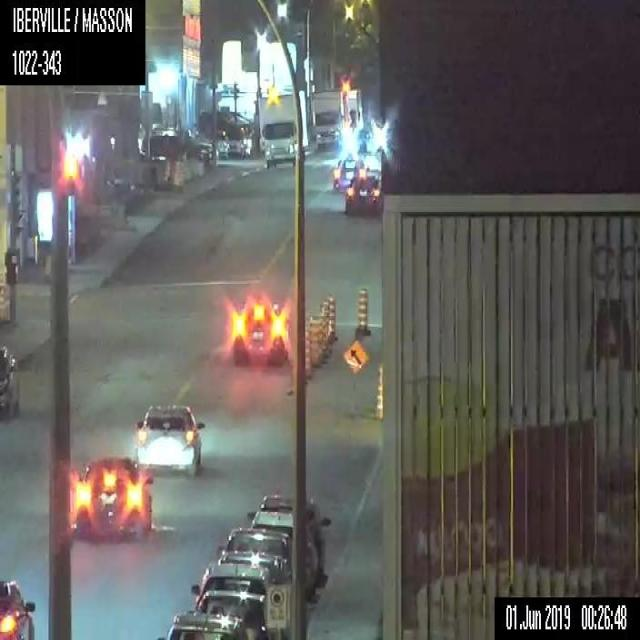construction: (341, 338, 366, 410), (352, 282, 372, 336), (308, 316, 320, 370), (374, 362, 384, 418), (172, 156, 188, 190), (319, 300, 328, 353), (327, 292, 336, 340)
vehicle: (70, 456, 154, 542), (258, 494, 330, 582), (138, 398, 205, 480), (188, 564, 279, 612), (232, 299, 290, 365), (218, 525, 289, 577), (154, 604, 256, 639), (198, 591, 271, 639), (305, 80, 349, 152), (256, 91, 296, 168), (244, 506, 314, 540), (0, 574, 36, 638), (344, 171, 381, 219), (0, 339, 20, 416), (331, 154, 364, 192)
